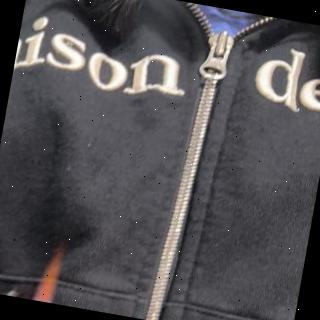fire: (32, 242, 64, 304)
